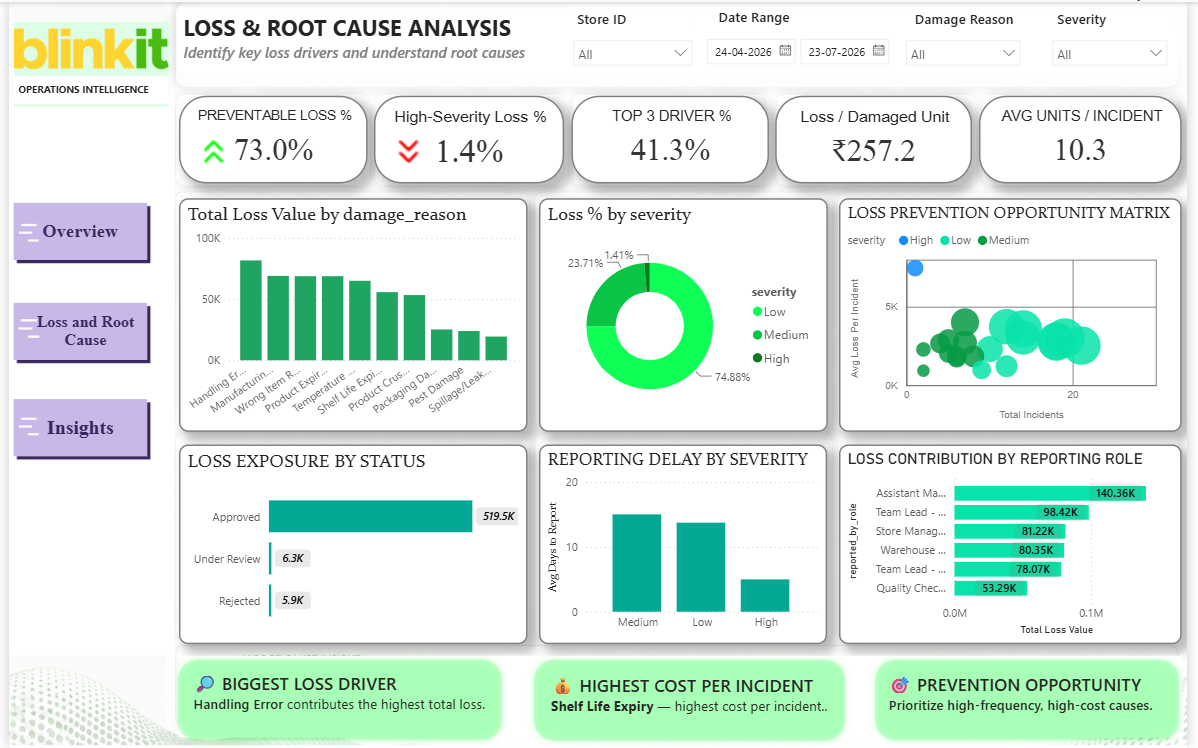

What the dashboard file says about the page in this screenshot:
{"tool":"powerbi","page":{"name":"Loss and root cause ","canvas":[1280,810],"ordinal":1},"visuals":[{"type":"textbox","box":[0,101.3,180,608],"z":0},{"type":"shape","box":[932.4,705.5,346.6,104.1],"z":0,"group":"g7"},{"type":"textbox","box":[184,6.7,434.7,69.3],"z":1000},{"type":"image","box":[6.7,10.7,168.3,58.4],"z":1000,"group":"g5"},{"type":"textbox","box":[939.4,722.5,340.7,61.1],"z":1000,"group":"g7"},{"type":"group","id":"g1","title":"Group 1","box":[602.7,2.7,148,73.3],"z":2000},{"type":"textbox","box":[612,2.7,131.4,36],"z":2000,"group":"g1"},{"type":"group","id":"g2","title":"Group 2","box":[963.6,2.7,164,74.7],"z":3000},{"type":"textbox","box":[978.3,2.7,149.3,32.7],"z":3000,"group":"g2"},{"type":"textbox","box":[765.6,1.3,179.1,37.2],"z":4000,"group":"g4"},{"type":"group","id":"g3","title":"Group 4","box":[1122.7,2.7,145.3,73.3],"z":4000},{"type":"group","id":"g4","title":"Group 3","box":[745.8,1.3,222.7,74.7],"z":5000},{"type":"textbox","box":[1133.7,2.7,124.4,36.9],"z":5000,"group":"g3"},{"type":"slicer","fields":{"Values":["employees_master.store_id"]},"box":[602.7,30.6,148.8,45.3],"z":6000,"group":"g1"},{"type":"advanceCardE03760C5AB684758B56AA29F9E6C257B","title":"PREVENTABLE LOSS %","fields":{"mainMeasure":["damaged_products.Preventable Loss %"]},"box":[184,101.3,205.3,98.7],"z":6000},{"type":"slicer","fields":{"Values":["damaged_products.damage_reason"]},"box":[963.6,31.9,144.8,45.5],"z":7000,"group":"g2"},{"type":"advanceCardE03760C5AB684758B56AA29F9E6C257B","title":"High-Severity Loss %","fields":{"mainMeasure":["damaged_products.High Severity Loss %"]},"box":[396.7,101.3,206.7,98.7],"z":7000},{"type":"slicer","fields":{"Values":["damaged_products.report_date"]},"box":[745.8,30.4,223.3,45.3],"z":8000,"group":"g4"},{"type":"advanceCardE03760C5AB684758B56AA29F9E6C257B","title":"TOP 3 DRIVER %","fields":{"mainMeasure":["damaged_products.Top 3 Driver %"]},"box":[610.7,101.3,214.7,98.7],"z":8000},{"type":"slicer","fields":{"Values":["damaged_products.severity"]},"box":[1122.7,31.6,145.5,45],"z":9000,"group":"g3"},{"type":"advanceCardE03760C5AB684758B56AA29F9E6C257B","title":"Loss / Damaged Unit","fields":{"mainMeasure":["damaged_products.Loss Per Damaged Unit"]},"box":[832.7,101.3,213.3,98.7],"z":9000},{"type":"advanceCardE03760C5AB684758B56AA29F9E6C257B","title":"AVG UNITS / INCIDENT","fields":{"mainMeasure":["damaged_products.Avg Units Per Incident"]},"box":[1053.3,101.3,220,98.7],"z":10000},{"type":"clusteredColumnChart","fields":{"Y":["damaged_products.Total Loss Value"],"Category":["damaged_products.damage_reason"]},"box":[184,213.3,378.7,253.3],"z":11000},{"type":"group","id":"g5","title":"Group 5","box":[6.7,10.7,168,90.7],"z":12000},{"type":"actionButton","box":[0,213.1,155,72],"z":12000,"group":"g9"},{"type":"donutChart","title":"Loss % by severity","fields":{"Category":["damaged_products.severity"],"Y":["damaged_products.Total Loss Value"]},"box":[576,213.3,313.3,253.3],"z":13000},{"type":"actionButton","box":[0,321.7,155,72],"z":13000,"group":"g10"},{"type":"EnhancedScatterChart1443994985041","title":"LOSS PREVENTION OPPORTUNITY MATRIX","fields":{"X":["damaged_products.Total Incidents"],"Y":["damaged_products.Avg Loss Per Incident"],"Category":["damaged_products.damage_reason"],"Series":["damaged_products.severity"],"Size":["damaged_products.Total Loss Value"]},"box":[901.2,213.1,371.9,253.8],"z":14000},{"type":"actionButton","box":[0,426.2,155,72],"z":14000,"group":"g11"},{"type":"clusteredBarChart","title":"LOSS EXPOSURE BY STATUS","fields":{"Category":["damaged_products.status"],"Y":["damaged_products.Total Loss Value"]},"box":[184.6,480.5,378.7,217.2],"z":15000},{"type":"clusteredColumnChart","title":"REPORTING DELAY BY SEVERITY","fields":{"Category":["damaged_products.severity"],"Y":["Avg(damaged_products.days_before_reported)"]},"box":[576,480,313,217],"z":16000},{"type":"clusteredBarChart","title":"LOSS CONTRIBUTION BY REPORTING ROLE","fields":{"Category":["damaged_products.reported_by_role"],"Y":["damaged_products.Total Loss Value"]},"box":[901,480,372,217],"z":17000},{"type":"image","box":[205.3,141.3,34.7,42.7],"z":18000},{"type":"textbox","box":[184.3,710,1088.6,88.6],"z":19000},{"type":"group","id":"g6","title":"Group 6","box":[561.4,705.8,354.2,104.5],"z":20000},{"type":"group","id":"g7","title":"Group 7","box":[932.4,705.5,347.6,104.1],"z":21000},{"type":"image","box":[416.7,141.2,34,42],"z":22000},{"type":"textbox","box":[6.7,69.1,168.3,31.2],"z":23000,"group":"g5"},{"type":"group","id":"g8","title":"Group 8","box":[175.3,705.5,368.9,104.1],"z":23000},{"type":"shape","box":[175.3,705.5,368.5,104.1],"z":23000,"group":"g8"},{"type":"group","id":"g9","title":"Group 9","box":[0,213.1,155,72],"z":24000},{"type":"textbox","box":[195.4,722.1,348.8,66.5],"z":24000,"group":"g8"},{"type":"group","id":"g10","title":"Group 10","box":[0,321.7,155,72],"z":25000},{"type":"shape","box":[561.4,705.8,354.2,104.5],"z":25000,"group":"g6"},{"type":"group","id":"g11","title":"Group 11","box":[0,426.2,155,72],"z":26000},{"type":"textbox","box":[582.6,725.2,312.5,64],"z":26000,"group":"g6"},{"type":"image","box":[0,235.9,43.1,29.2],"z":27000,"group":"g9"},{"type":"image","box":[0,339.4,43.1,30.7],"z":27001,"group":"g10"},{"type":"image","box":[0,446.6,43.1,29.2],"z":27002,"group":"g11"}]}

Visuals, with their boxes in screenshot pixels (x1, y1, x2, y2), scaled from the page's 1280x810 canvas onto the 1198x748 screenshot:
textbox: bbox=[0, 94, 168, 655]
shape: bbox=[873, 651, 1197, 747]
textbox: bbox=[172, 6, 579, 70]
image: bbox=[6, 10, 164, 64]
textbox: bbox=[879, 667, 1197, 724]
"Group 1" group: bbox=[564, 2, 703, 70]
textbox: bbox=[573, 2, 696, 36]
"Group 2" group: bbox=[902, 2, 1055, 71]
textbox: bbox=[916, 2, 1055, 33]
textbox: bbox=[717, 1, 884, 36]
"Group 4" group: bbox=[1051, 2, 1187, 70]
"Group 3" group: bbox=[698, 1, 906, 70]
textbox: bbox=[1061, 2, 1178, 37]
slicer - employees_master.store_id: bbox=[564, 28, 703, 70]
"PREVENTABLE LOSS %" advanceCardE03760C5AB684758B56AA29F9E6C257B: bbox=[172, 94, 364, 185]
slicer - damaged_products.damage_reason: bbox=[902, 29, 1037, 71]
"High-Severity Loss %" advanceCardE03760C5AB684758B56AA29F9E6C257B: bbox=[371, 94, 565, 185]
slicer - damaged_products.report_date: bbox=[698, 28, 907, 70]
"TOP 3 DRIVER %" advanceCardE03760C5AB684758B56AA29F9E6C257B: bbox=[572, 94, 773, 185]
slicer - damaged_products.severity: bbox=[1051, 29, 1187, 71]
"Loss / Damaged Unit" advanceCardE03760C5AB684758B56AA29F9E6C257B: bbox=[779, 94, 979, 185]
"AVG UNITS / INCIDENT" advanceCardE03760C5AB684758B56AA29F9E6C257B: bbox=[986, 94, 1192, 185]
clusteredColumnChart - damaged_products.Total Loss Value x damaged_products.damage_reason: bbox=[172, 197, 527, 431]
"Group 5" group: bbox=[6, 10, 164, 94]
actionButton: bbox=[0, 197, 145, 263]
"Loss % by severity" donutChart: bbox=[539, 197, 832, 431]
actionButton: bbox=[0, 297, 145, 364]
"LOSS PREVENTION OPPORTUNITY MATRIX" EnhancedScatterChart1443994985041: bbox=[843, 197, 1192, 431]
actionButton: bbox=[0, 394, 145, 460]
"LOSS EXPOSURE BY STATUS" clusteredBarChart: bbox=[173, 444, 527, 644]
"REPORTING DELAY BY SEVERITY" clusteredColumnChart: bbox=[539, 443, 832, 644]
"LOSS CONTRIBUTION BY REPORTING ROLE" clusteredBarChart: bbox=[843, 443, 1191, 644]
image: bbox=[192, 130, 225, 170]
textbox: bbox=[172, 656, 1191, 737]
"Group 6" group: bbox=[525, 652, 857, 747]
"Group 7" group: bbox=[873, 651, 1197, 747]
image: bbox=[390, 130, 422, 169]
textbox: bbox=[6, 64, 164, 93]
"Group 8" group: bbox=[164, 651, 509, 747]
shape: bbox=[164, 651, 509, 747]
"Group 9" group: bbox=[0, 197, 145, 263]
textbox: bbox=[183, 667, 509, 728]
"Group 10" group: bbox=[0, 297, 145, 364]
shape: bbox=[525, 652, 857, 747]
"Group 11" group: bbox=[0, 394, 145, 460]
textbox: bbox=[545, 670, 838, 729]
image: bbox=[0, 218, 40, 245]
image: bbox=[0, 313, 40, 342]
image: bbox=[0, 412, 40, 439]
